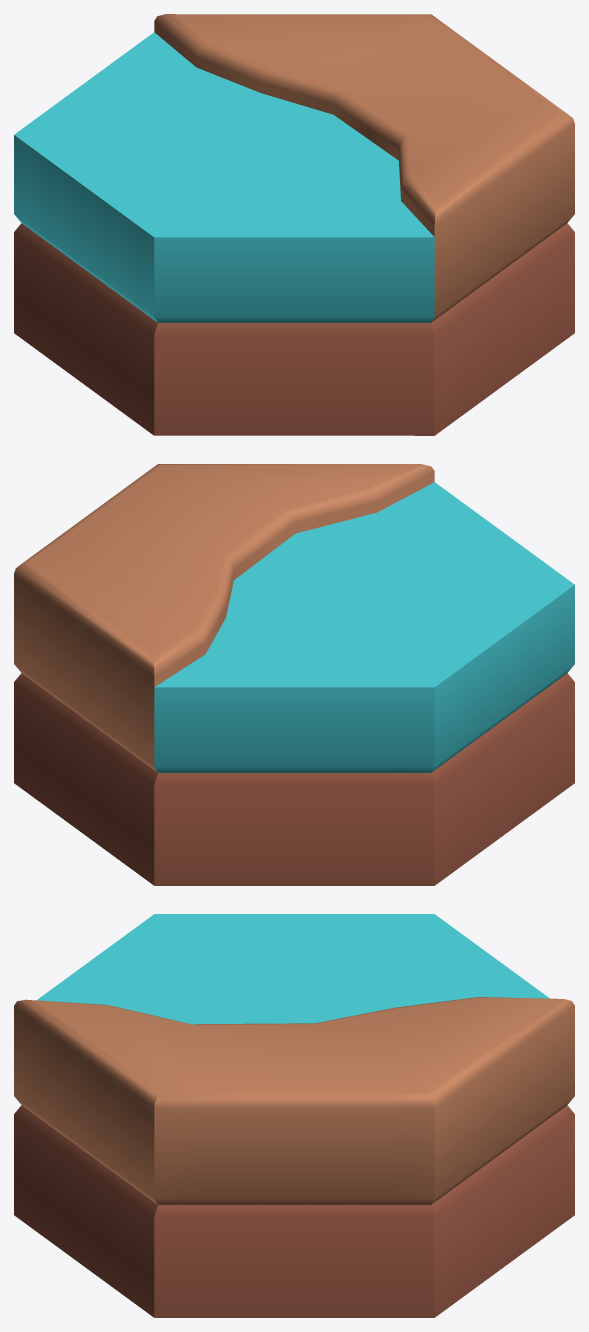
Rendered from kaykit-hex-rock-waterc-detail.glb.
3 views of the same model, one above another, from view 1: azimuth 30°, elevation 25°; view 2: azimuth 150°, elevation 25°; view 3: azimuth 270°, elevation 25° (orthographic).
Visible parts, largest first — view 1: hex_rock_waterC_detail; view 2: hex_rock_waterC_detail; view 3: hex_rock_waterC_detail.
Part boxes in pixels (x1,y1,x2,y2): hex_rock_waterC_detail: (14,14,574,435); hex_rock_waterC_detail: (14,464,574,885); hex_rock_waterC_detail: (14,914,574,1317).
Bounding box in the file's own units: 2 × 1 × 2.31.
